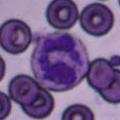N: (30, 31, 89, 92)
